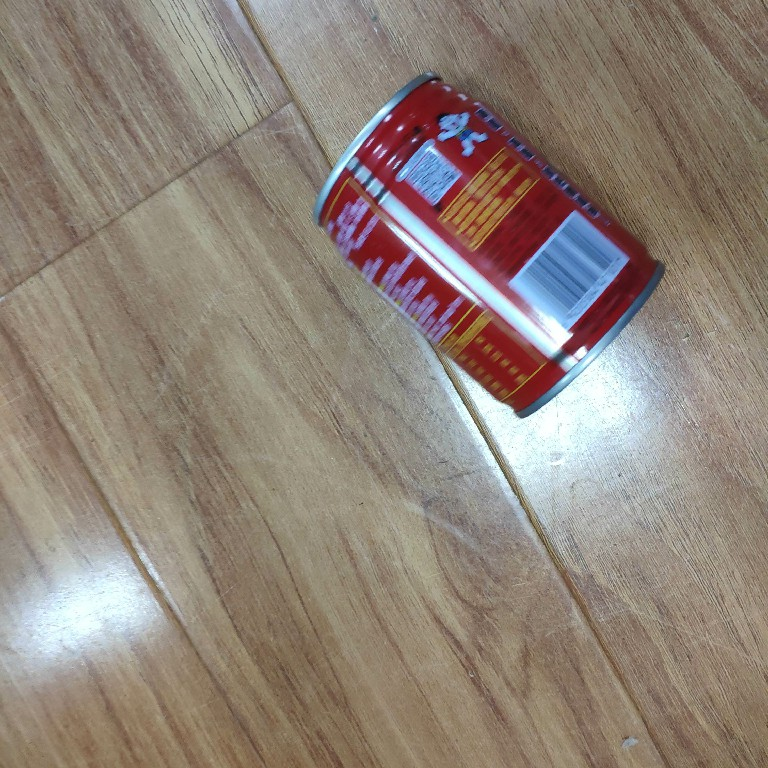can: (308, 68, 668, 422)
